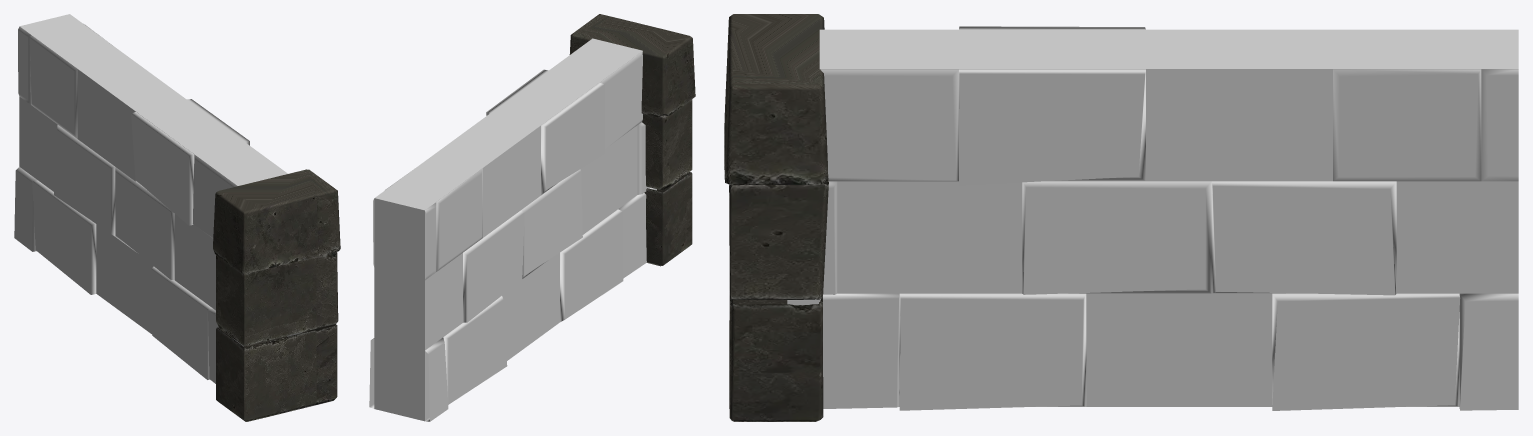
3 renders of one model, left to right at view 1: azimuth 30°, elevation 25°; view 2: azimuth 150°, elevation 25°; view 3: azimuth 270°, elevation 25°, orthographic. The views are drawn at different scales.
Visible parts, largest first — view 1: SM_Greathall_Wall_Blank_8x4_01_LOD0; view 2: SM_Greathall_Wall_Blank_8x4_01_LOD0; view 3: SM_Greathall_Wall_Blank_8x4_01_LOD0.
Boxes of the visible parts, x1,y1,x2,y2 form: SM_Greathall_Wall_Blank_8x4_01_LOD0: (14,14,340,421); SM_Greathall_Wall_Blank_8x4_01_LOD0: (369,14,695,421); SM_Greathall_Wall_Blank_8x4_01_LOD0: (724,14,1518,421).
Bounding box in the file's own units: 1.98 × 4 × 8.52.
Materials: 2 (1 with a texture image).
